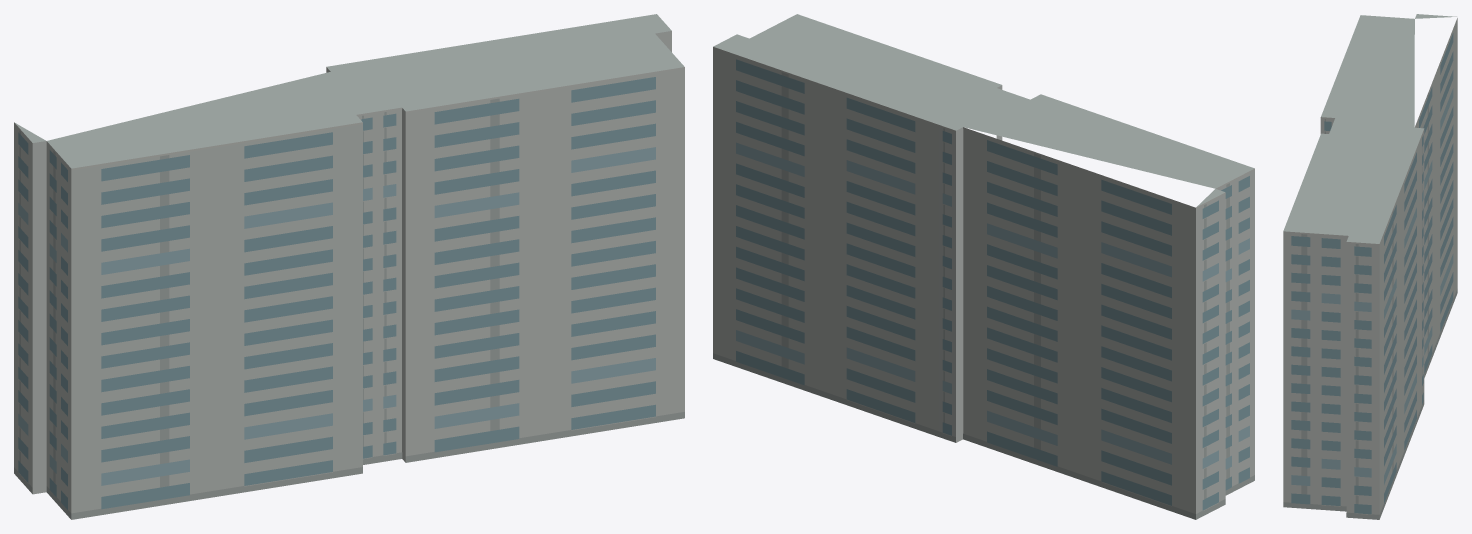
Rendered from residential-a7ec4eb7-7db1-4db2-8806-0a900b5a4b9a.glb.
3 renders of one model, left to right at view 1: azimuth 30°, elevation 25°; view 2: azimuth 150°, elevation 25°; view 3: azimuth 270°, elevation 25°, orthographic. The views are drawn at different scales.
Visible parts, largest first — view 1: residential-a7ec4eb7-7db1-4db2-8806-0a900b5a4b9a.tmp; view 2: residential-a7ec4eb7-7db1-4db2-8806-0a900b5a4b9a.tmp; view 3: residential-a7ec4eb7-7db1-4db2-8806-0a900b5a4b9a.tmp.
Boxes of the visible parts, box(x1,y1,x2,y2) form: residential-a7ec4eb7-7db1-4db2-8806-0a900b5a4b9a.tmp: box(14, 14, 684, 519); residential-a7ec4eb7-7db1-4db2-8806-0a900b5a4b9a.tmp: box(713, 14, 1254, 519); residential-a7ec4eb7-7db1-4db2-8806-0a900b5a4b9a.tmp: box(1283, 14, 1457, 519).
Size of the model in its own units: 81.84 by 45.75 by 26.24.
